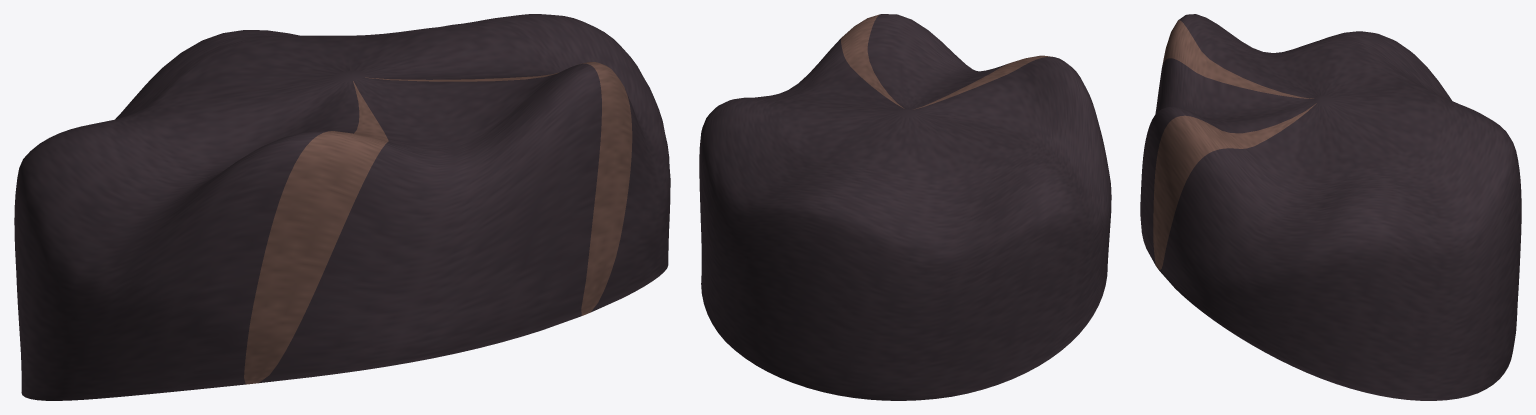
File: hair_quiff_default.gltf
The picture shows the model from 3 angles, left to right: view 1: azimuth 30°, elevation 25°; view 2: azimuth 150°, elevation 25°; view 3: azimuth 270°, elevation 25°; orthographic projection. The views are drawn at different scales.
Visible parts, largest first — view 1: High Quiff default; view 2: High Quiff default; view 3: High Quiff default.
Boxes of the visible parts, x1,y1,x2,y2 form: High Quiff default: [14, 14, 670, 400]; High Quiff default: [699, 14, 1111, 400]; High Quiff default: [1140, 14, 1521, 400].
Size of the model in its own units: 0.4822 by 0.3049 by 0.3789.
2 materials, 2 textured.
